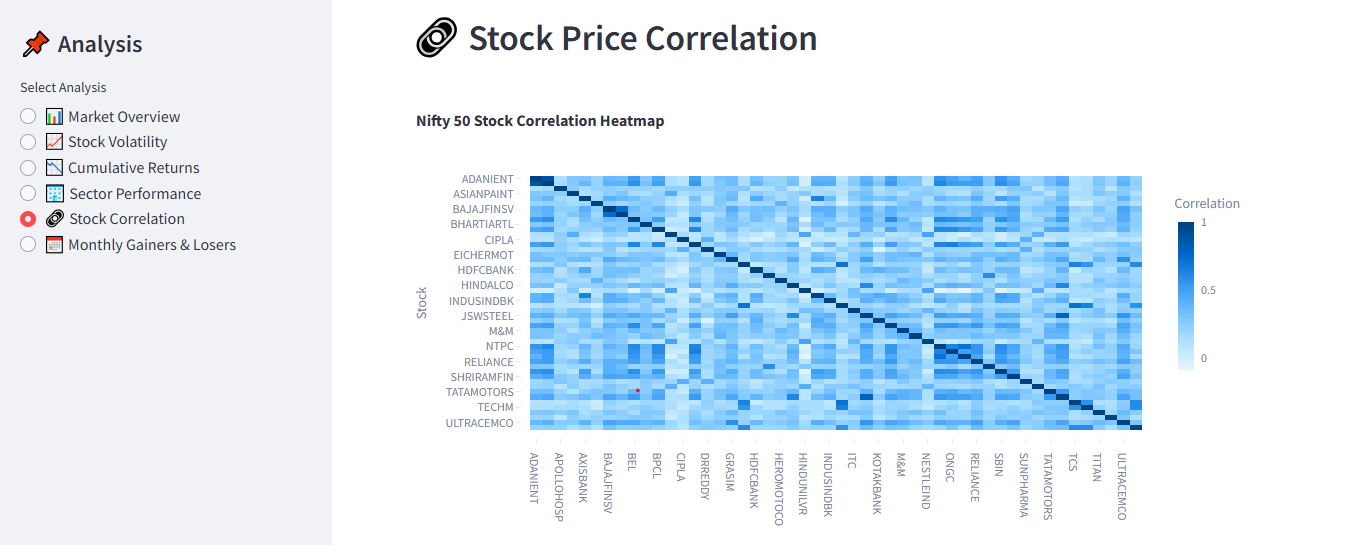

This screenshot's page, from the dashboard's own definition file:
{"tool":"powerbi","page":{"name":"Page 5","canvas":[1920,1080],"ordinal":4},"visuals":[{"type":"pivotTable","fields":{"Rows":["stock_analysis stock_correlation.Stock"],"Values":["Sum(stock_analysis stock_correlation.ADANIENT)","Sum(stock_analysis stock_correlation.ADANIPORTS)","Sum(stock_analysis stock_correlation.APOLLOHOSP)","Sum(stock_analysis stock_correlation.ASIANPAINT)","Sum(stock_analysis stock_correlation.AXISBANK)","Sum(stock_analysis stock_correlation.BAJAJ-AUTO)","Sum(stock_analysis stock_correlation.BAJAJFINSV)","Sum(stock_analysis stock_correlation.BAJFINANCE)","Sum(stock_analysis stock_correlation.BEL)","Sum(stock_analysis stock_correlation.BHARTIARTL)","Sum(stock_analysis stock_correlation.BPCL)","Sum(stock_analysis stock_correlation.BRITANNIA)"]},"box":[0,89.9,1920.3,989.9],"z":0},{"type":"textbox","box":[0,26.1,465.2,52.2],"z":1}]}

Visuals, with their boxes on the page's 1920x1080 design canvas (x1, y1, x2, y2). These are canvas units, not pixel positions in the 1347x545 screenshot, which may show the page scaled, cropped or inside an application window:
pivotTable - stock_analysis stock_correlation.Stock x Sum(stock_analysis stock_correlation.ADANIENT): bbox(0, 90, 1920, 1080)
textbox: bbox(0, 26, 465, 78)
